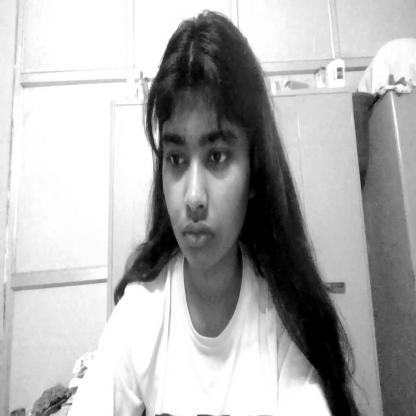Normal: (148, 19, 261, 276)
